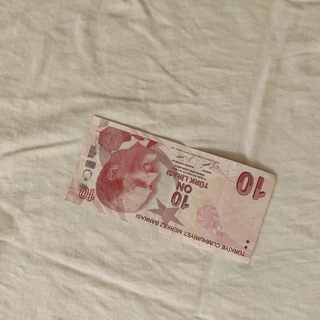10TLFront: (63, 112, 277, 265)
